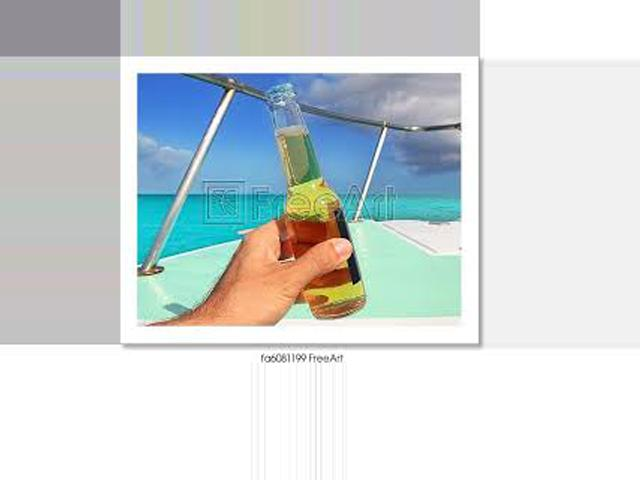beer: (260, 85, 368, 316)
